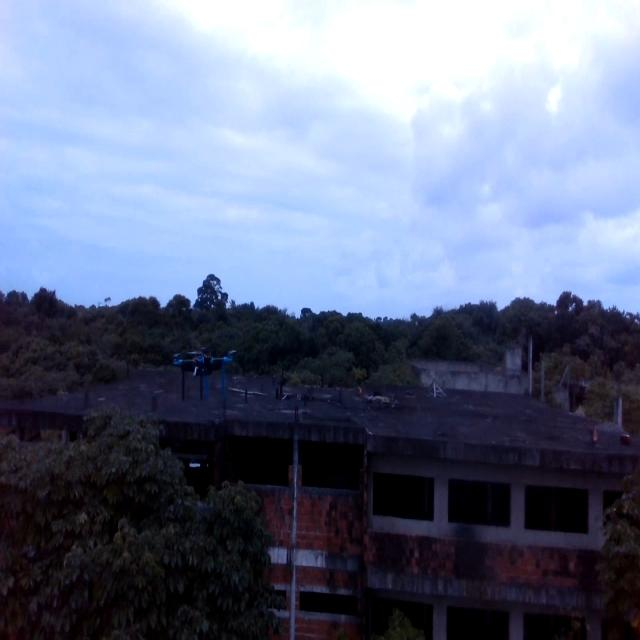-uav-: (170, 332, 243, 409)
